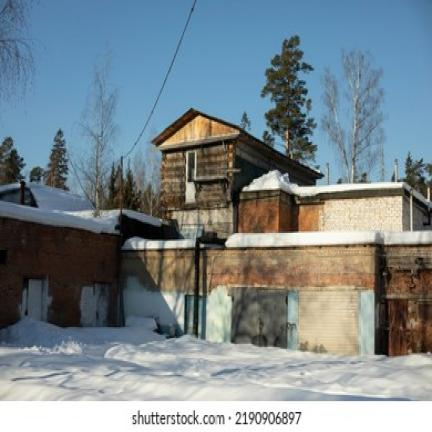karat: (239, 190, 299, 232)
